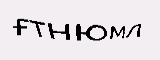Л: (126, 22, 143, 40)
М: (108, 24, 127, 41)
Н: (46, 20, 72, 45)
Т: (29, 17, 47, 42)
Ю: (73, 22, 108, 43)
Ғ: (12, 15, 29, 37)
